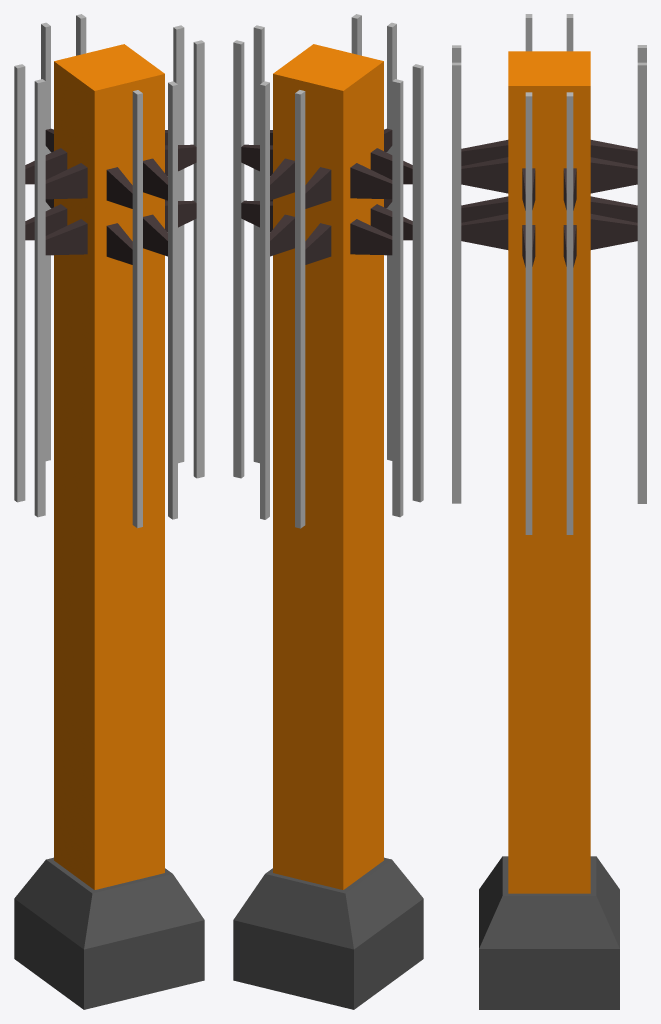
The model's file is radioTower.fbx.
The picture shows the model from 3 angles, left to right: view 1: azimuth 30°, elevation 25°; view 2: azimuth 150°, elevation 25°; view 3: azimuth 270°, elevation 25°; orthographic projection.
Parts seen in each view (by area): view 1: Cube; view 2: Cube; view 3: Cube.
Part boxes in pixels (bbox=[...]): Cube: bbox=[14, 14, 204, 1009]; Cube: bbox=[233, 14, 423, 1009]; Cube: bbox=[452, 14, 646, 1009].
Size of the model in its own units: 415 by 2173 by 415.
